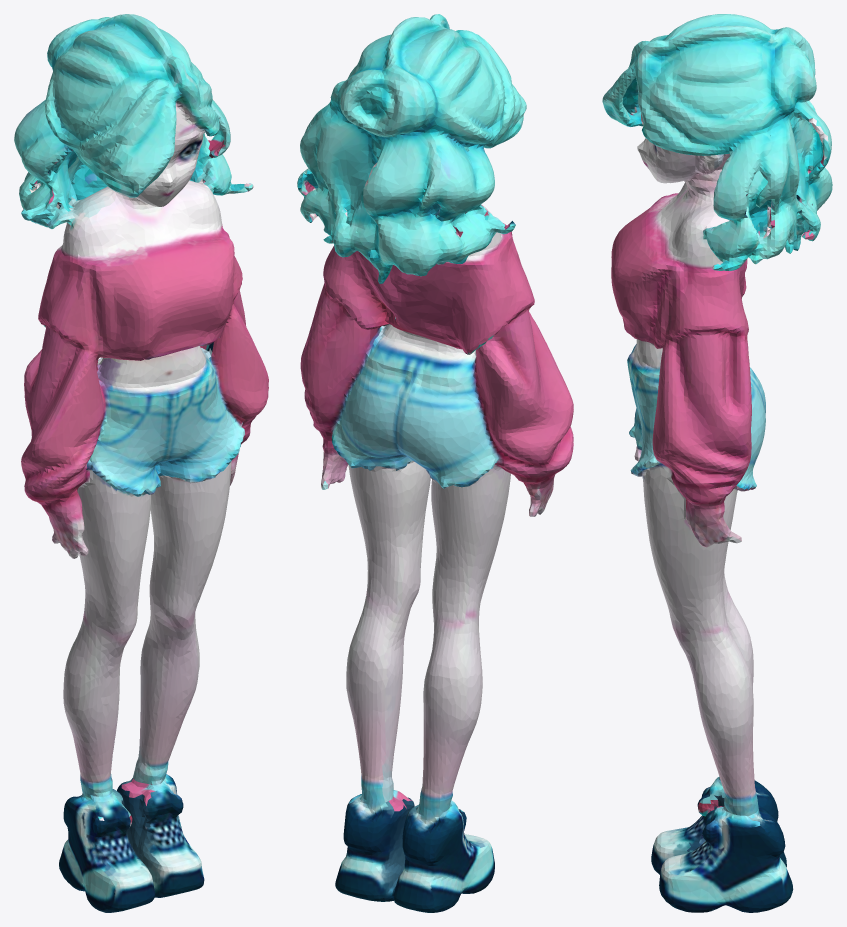
Rendered from character.glb.
The picture shows the model from 3 angles, left to right: view 1: azimuth 30°, elevation 25°; view 2: azimuth 150°, elevation 25°; view 3: azimuth 270°, elevation 25°; orthographic projection.
Size of the model in its own units: 0.5969 by 1.99 by 0.477.
1 material, 1 textured.
